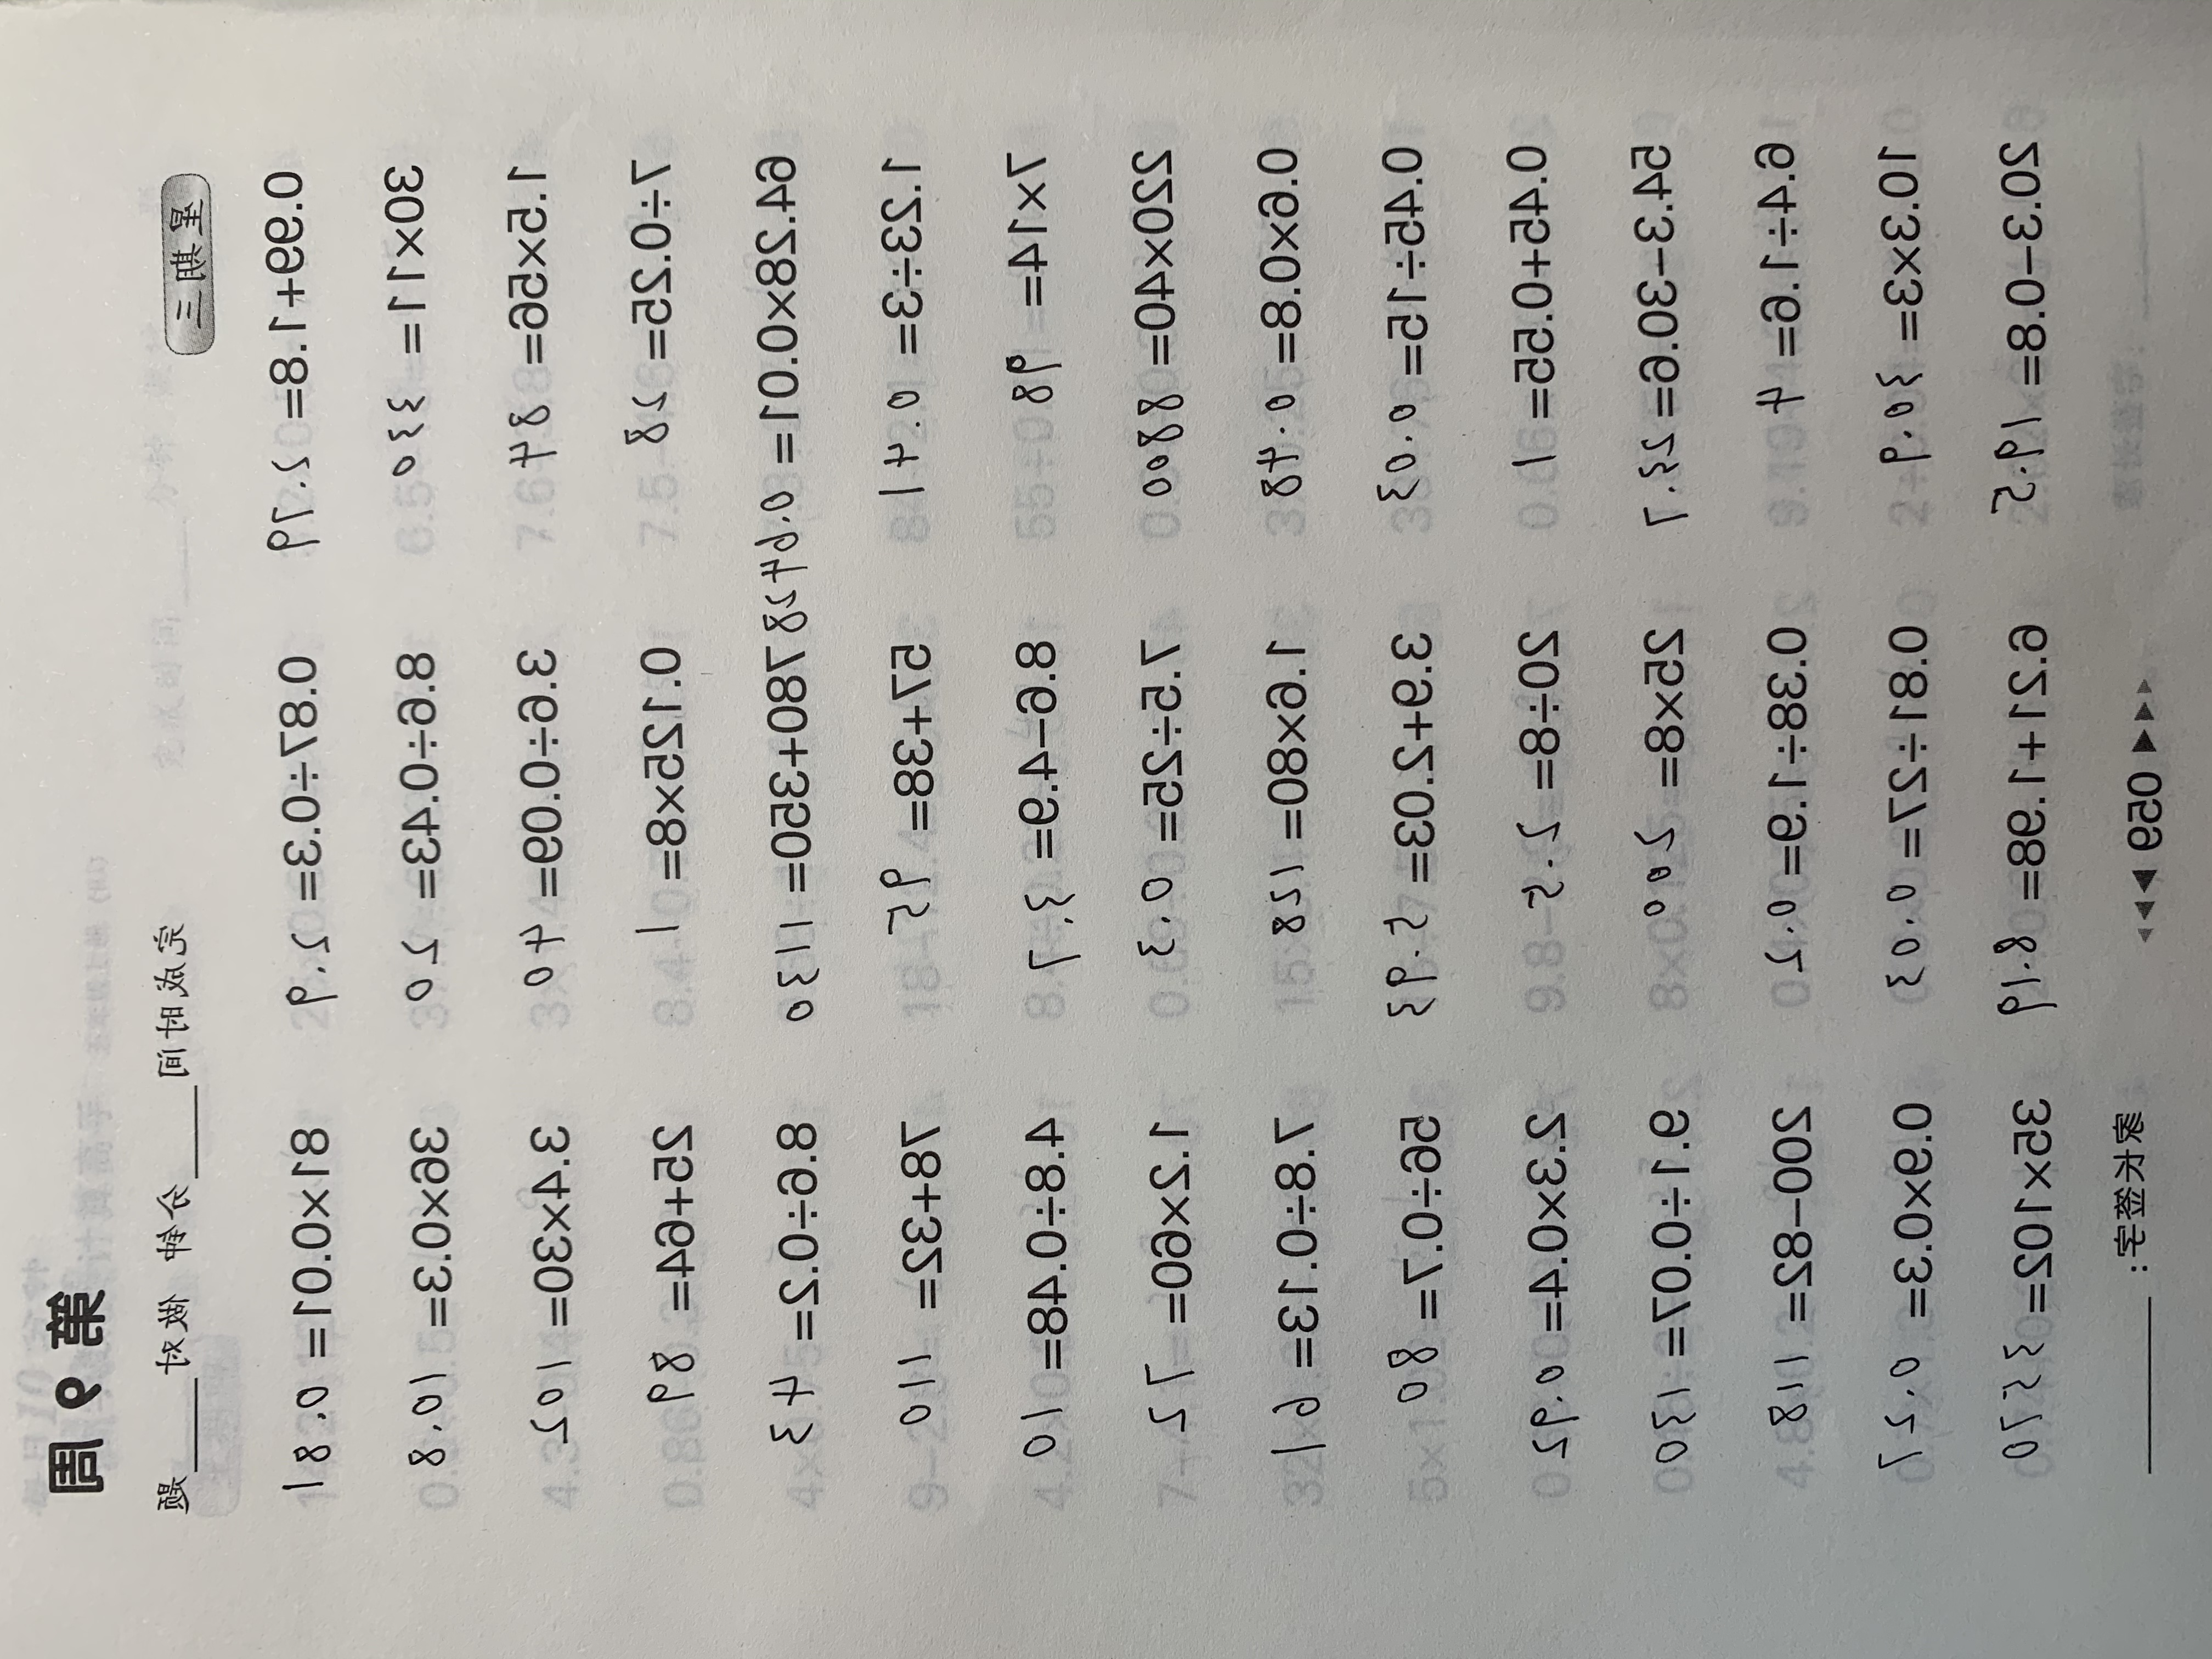equation: (211, 1406, 752, 1476), (192, 1044, 845, 1100), (815, 112, 1364, 176), (859, 1030, 1371, 1098), (841, 836, 1298, 908), (1453, 108, 1958, 171), (826, 575, 1367, 633), (181, 119, 693, 178), (178, 392, 716, 444), (178, 580, 683, 634), (188, 199, 631, 260), (1486, 1401, 1998, 1453), (1475, 852, 2005, 903), (859, 1401, 1353, 1455), (185, 765, 674, 819), (1453, 204, 1972, 254), (1479, 657, 1954, 711), (1467, 471, 1958, 523), (181, 674, 674, 725), (1479, 1037, 1939, 1089), (819, 296, 1308, 345), (1486, 755, 1925, 809), (1463, 382, 1965, 429), (1486, 1312, 1968, 1361), (852, 1321, 1350, 1368), (852, 1230, 1331, 1279), (178, 484, 634, 535), (819, 207, 1327, 253), (845, 1134, 1258, 1190), (841, 762, 1291, 812), (195, 958, 674, 1006), (841, 951, 1258, 1006), (211, 1234, 637, 1286), (1472, 570, 1885, 624), (1489, 1220, 1939, 1269), (192, 854, 557, 913), (199, 1147, 608, 1199), (1460, 293, 1914, 340), (211, 1331, 653, 1378), (841, 669, 1261, 718), (178, 298, 568, 350), (1482, 946, 1914, 993), (826, 481, 1224, 532), (822, 390, 1235, 439), (1486, 1131, 1885, 1180)
